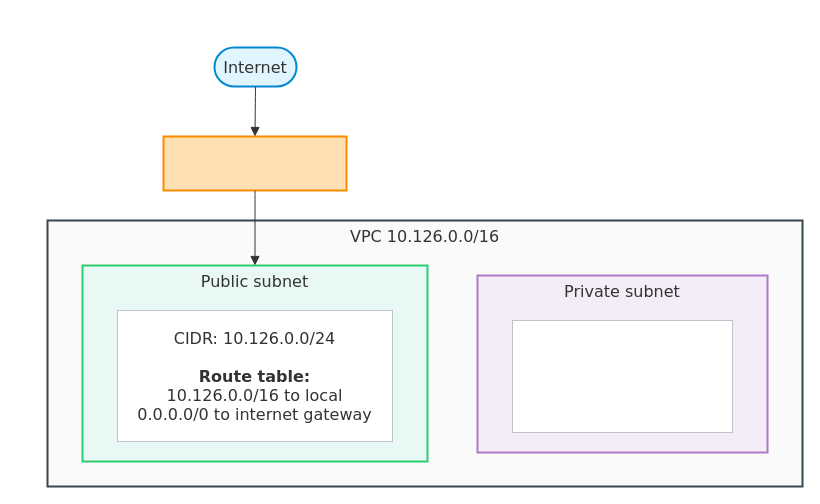
Some shapes in this 820 by 504 pixel diagram are drawn without their labels. Here are the shapes that lost their labels. From the top down, the centre of each, then its label:
(254,163): Internet gateway
(622,376): CIDR: 10.126.1.0/24 Route table: 10.126.0.0/16 to local
